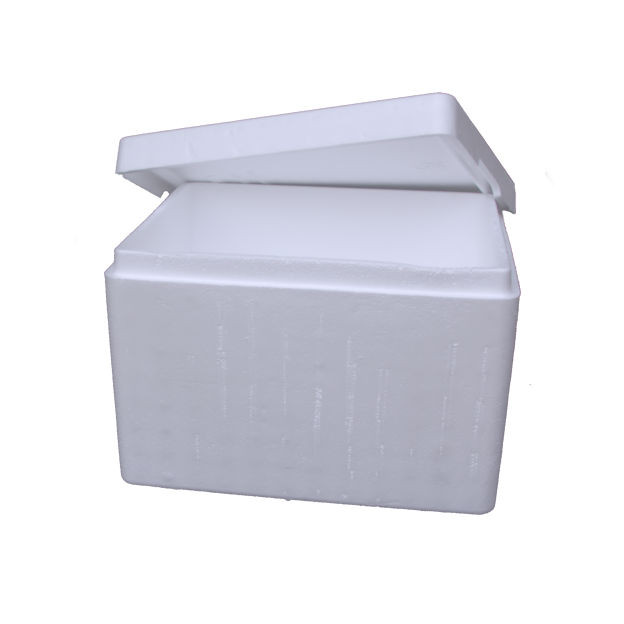Boxes: (105, 94, 520, 514)
